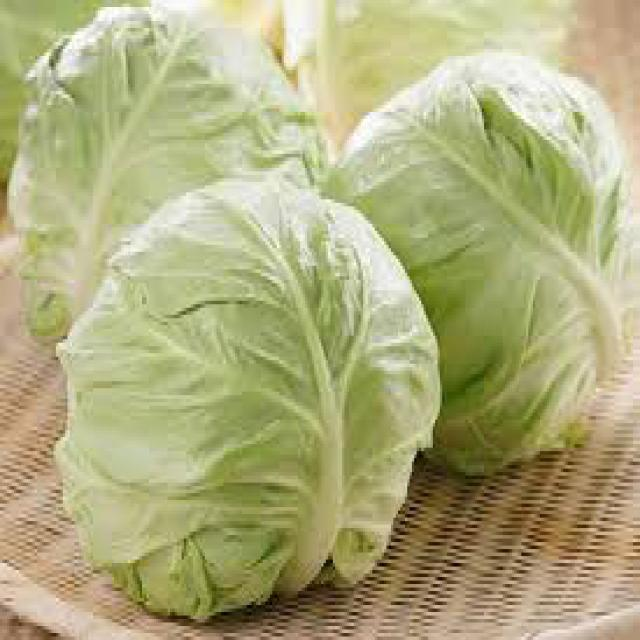Cabbage: (57, 175, 442, 623), (337, 51, 635, 476), (15, 3, 330, 354)
